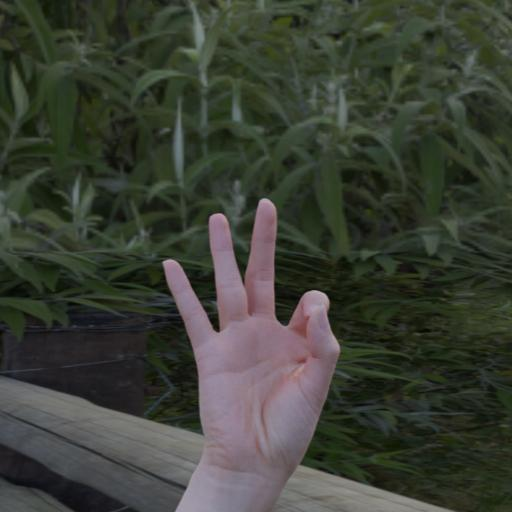F: (161, 197, 346, 491)
